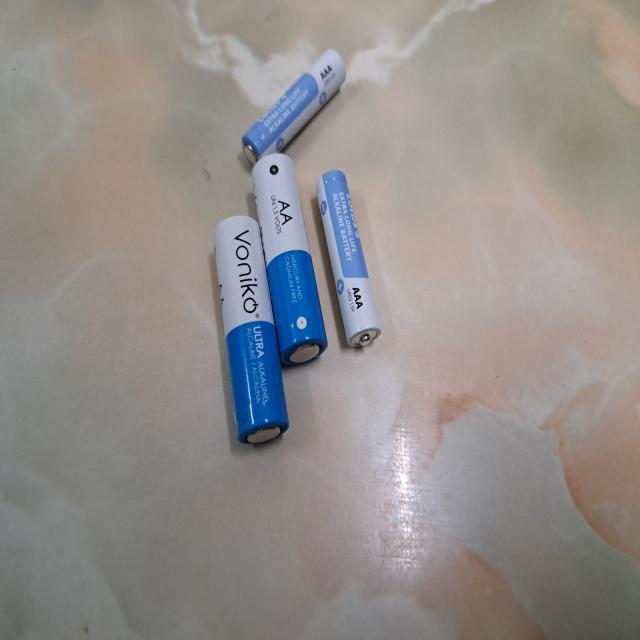battery: (213, 216, 289, 446), (253, 154, 329, 365), (315, 169, 382, 349), (242, 48, 345, 165)
